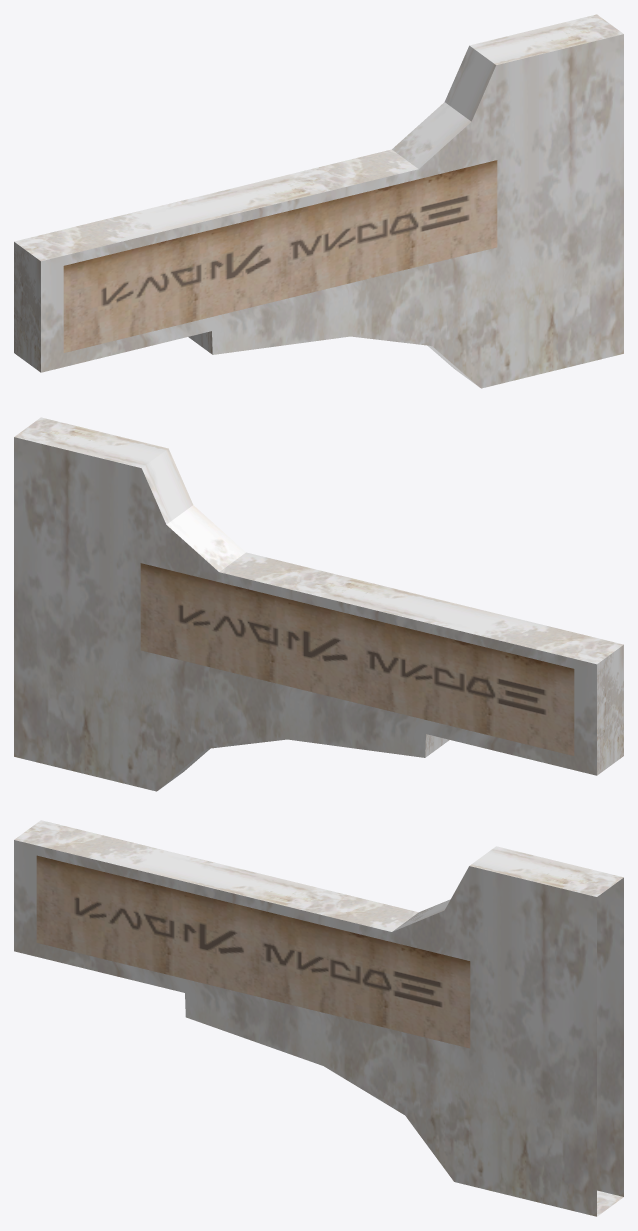
The model's file is thm_tato_imprv_street_sign_wall_s01_l0.fbx.
The picture shows the model from 3 angles, top to bottom: view 1: azimuth 30°, elevation 25°; view 2: azimuth 150°, elevation 25°; view 3: azimuth 330°, elevation 25°; orthographic projection.
Parts seen in each view (by area): view 1: mesh_node; view 2: mesh_node; view 3: mesh_node.
Boxes of the visible parts, x1=… form: mesh_node: x1=14, y1=14, x2=623, y2=388; mesh_node: x1=14, y1=417, x2=623, y2=791; mesh_node: x1=14, y1=820, x2=623, y2=1216.
Bounding box in the file's own units: 2 × 1.05 × 0.1605.
